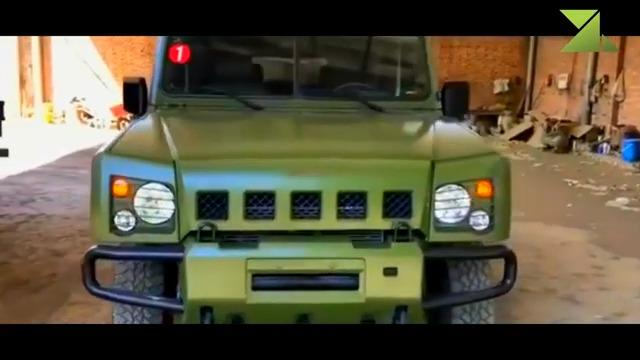MIL_HMMWV: (83, 35, 516, 323)
